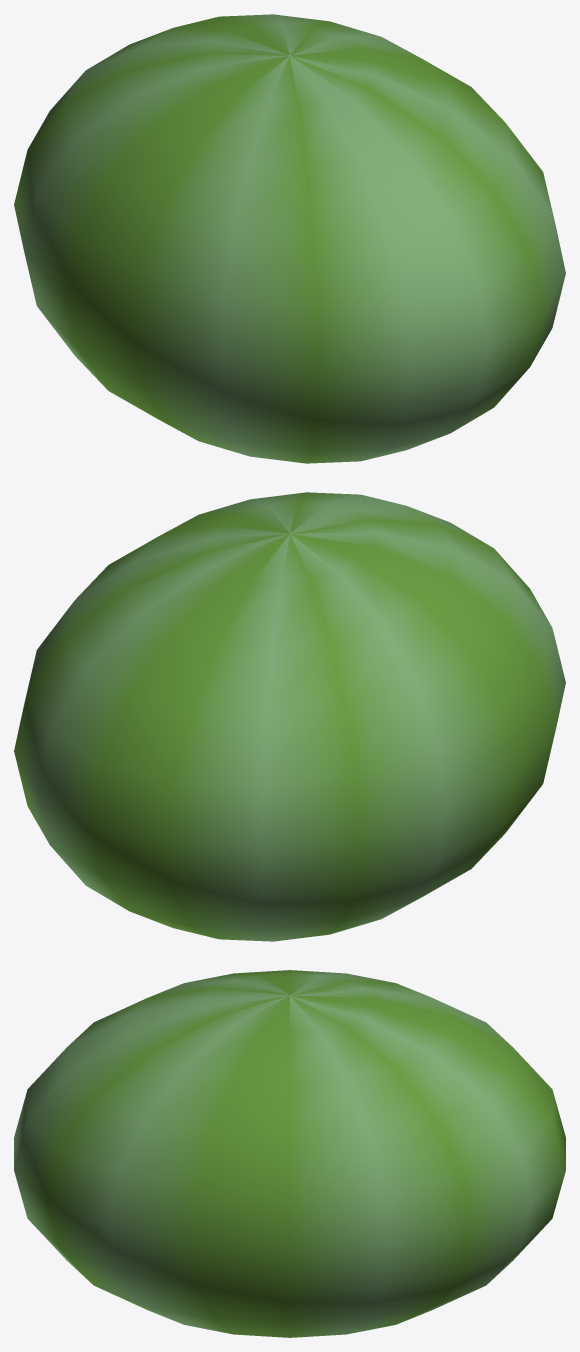
The model's file is fruit-watermelon-unripe.gltf.
3 views of the same model, one above another, from view 1: azimuth 30°, elevation 25°; view 2: azimuth 150°, elevation 25°; view 3: azimuth 270°, elevation 25° (orthographic). The views are drawn at different scales.
Bounding box in the file's own units: 1.1 × 0.858 × 1.35.
